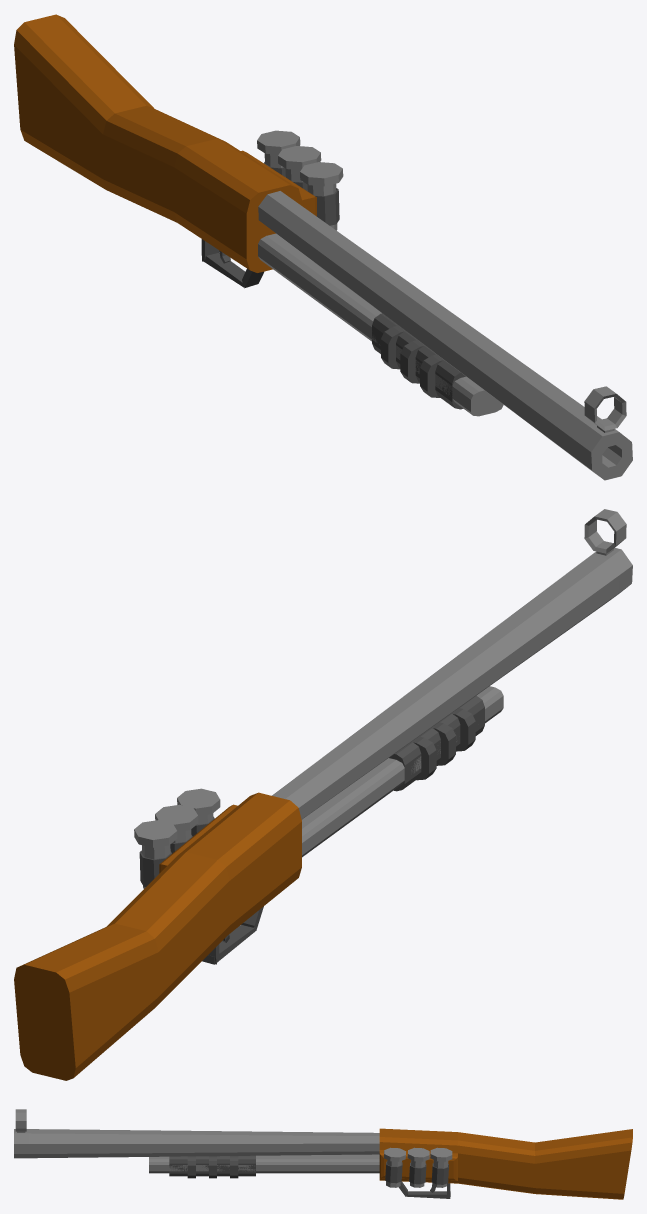
The model's file is shotGun.fbx.
3 renders of one model, top to bottom at view 1: azimuth 30°, elevation 25°; view 2: azimuth 150°, elevation 25°; view 3: azimuth 270°, elevation 25°, orthographic. The views are drawn at different scales.
Visible parts, largest first — view 1: Cube, Cylinder, Cube.001, Cube.002, Cylinder.006, Cylinder.003, Cylinder.005, Plane, Cylinder.004; view 2: Cube, Cylinder, Cube.001, Cube.002, Cylinder.005, Cylinder.003, Cylinder.006; view 3: Cube, Cylinder, Cube.001, Cube.002, Cylinder.005, Cylinder.003, Cylinder.006, Plane, Cylinder.004, Cylinder.002, Cylinder.001.
Boxes of the visible parts, bbox=[...] form: Cube: bbox=[14, 14, 316, 272]; Cylinder: bbox=[258, 191, 632, 480]; Cube.001: bbox=[258, 233, 503, 416]; Cube.002: bbox=[372, 313, 465, 409]; Cylinder.006: bbox=[300, 162, 343, 230]; Cylinder.003: bbox=[278, 146, 321, 181]; Cylinder.005: bbox=[257, 130, 300, 167]; Plane: bbox=[201, 239, 245, 287]; Cylinder.004: bbox=[307, 188, 339, 225]; Cube: bbox=[14, 792, 301, 1080]; Cylinder: bbox=[272, 509, 632, 819]; Cube.001: bbox=[302, 686, 503, 857]; Cube.002: bbox=[389, 695, 484, 791]; Cylinder.005: bbox=[134, 820, 177, 888]; Cylinder.003: bbox=[155, 804, 198, 843]; Cylinder.006: bbox=[177, 788, 220, 824]; Cube: bbox=[379, 1128, 632, 1199]; Cylinder: bbox=[14, 1109, 379, 1158]; Cube.001: bbox=[149, 1154, 379, 1173]; Cube.002: bbox=[169, 1155, 255, 1178]; Cylinder.005: bbox=[430, 1147, 452, 1187]; Cylinder.003: bbox=[407, 1147, 429, 1187]; Cylinder.006: bbox=[384, 1147, 405, 1187]; Plane: bbox=[406, 1183, 450, 1198]; Cylinder.004: bbox=[385, 1161, 402, 1183]; Cylinder.002: bbox=[409, 1162, 426, 1184]; Cylinder.001: bbox=[431, 1163, 448, 1184].
Bounding box in the file's own units: 177 × 252 × 1646.
